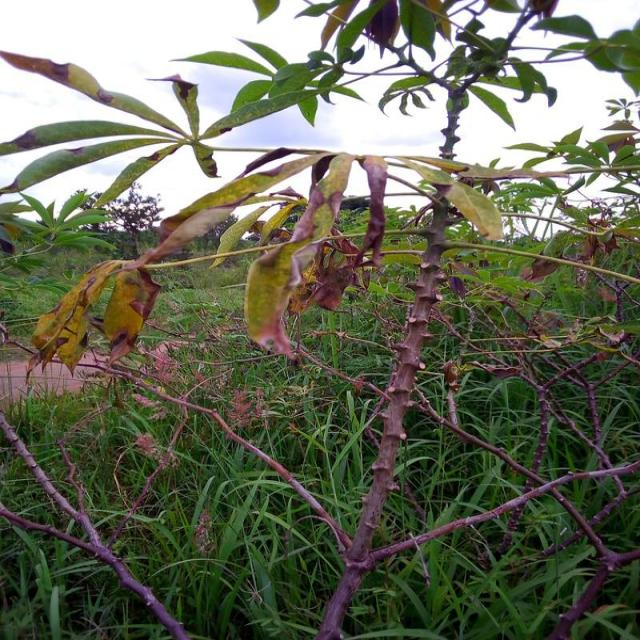cassava leaf: (243, 150, 354, 360)
